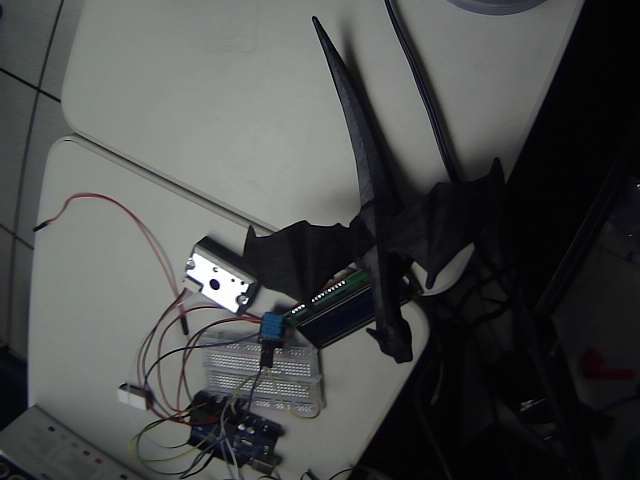charizard: (199, 12, 598, 389)
